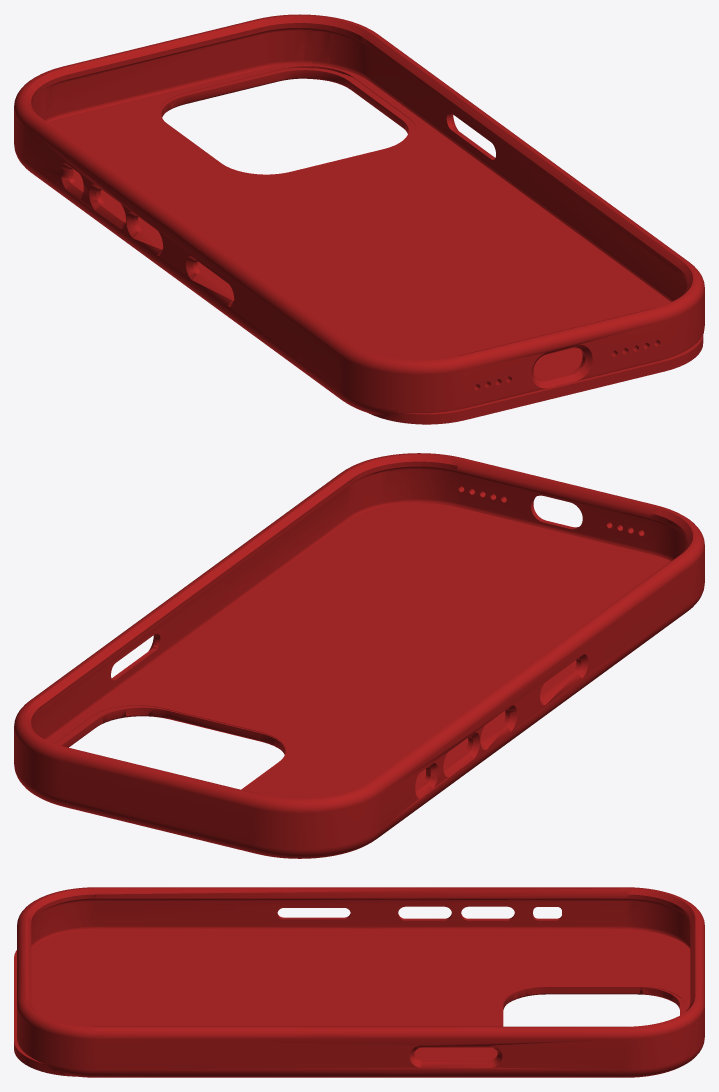
File: phone-case-v2.glb
3 views of the same model, one above another, from view 1: azimuth 30°, elevation 25°; view 2: azimuth 150°, elevation 25°; view 3: azimuth 270°, elevation 25° (orthographic). The views are drawn at different scales.
Parts seen in each view (by area): view 1: Object_2.001, outside, inside; view 2: Object_2.001, outside, inside; view 3: Object_2.001, outside, inside.
Part boxes in pixels (x1,y1,x2,y2): Object_2.001: [31, 23, 687, 387]; outside: [14, 14, 704, 424]; inside: [31, 47, 651, 414]; Object_2.001: [31, 469, 687, 798]; outside: [14, 453, 704, 858]; inside: [97, 462, 686, 749]; Object_2.001: [31, 888, 690, 1069]; outside: [14, 887, 704, 1077]; inside: [38, 895, 689, 1061].
Bounding box in the file's own units: 76.6 × 12.5 × 152.
